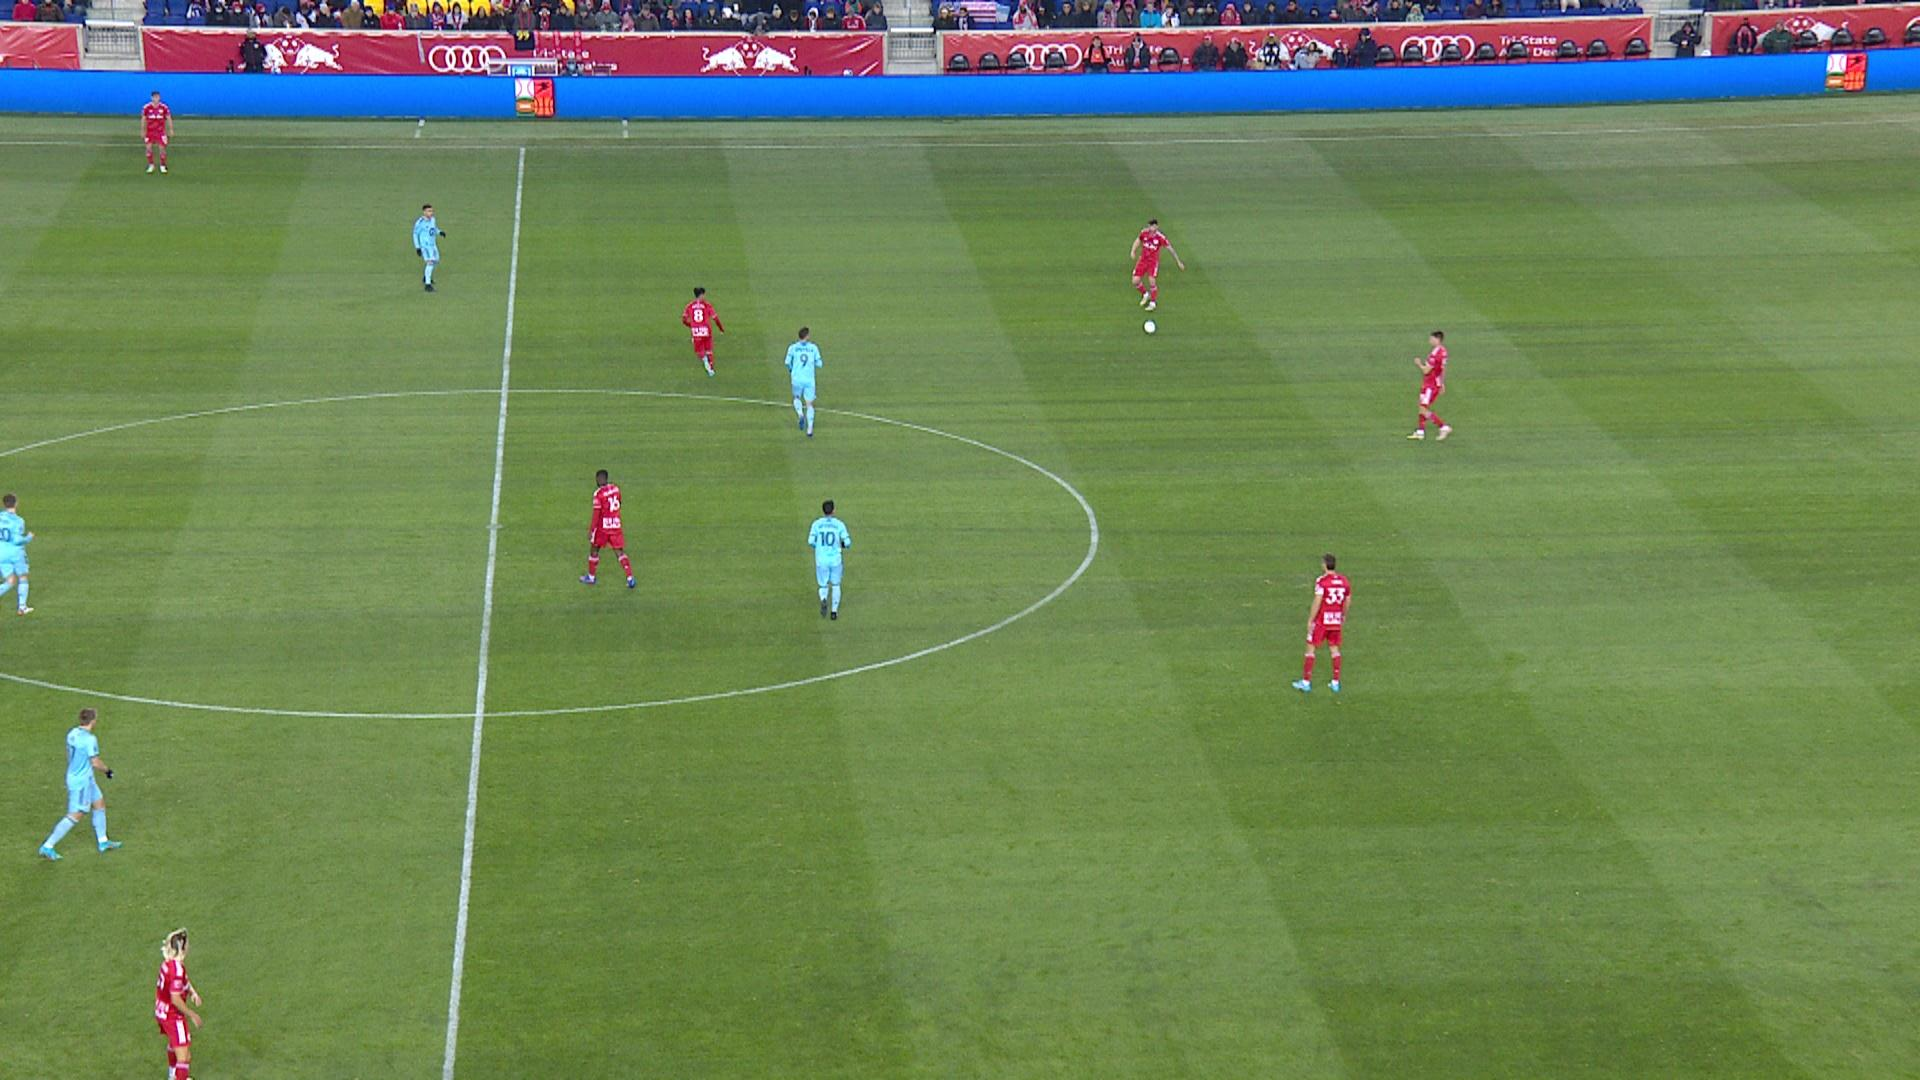football: (1143, 320, 1157, 334)
